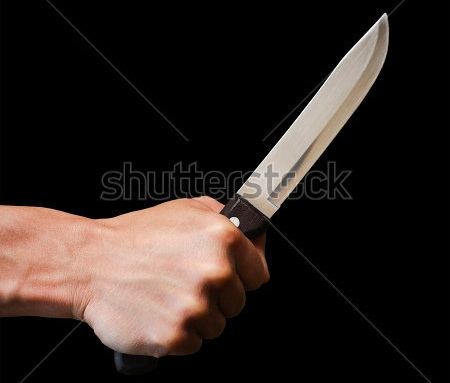knife: (169, 7, 395, 359)
